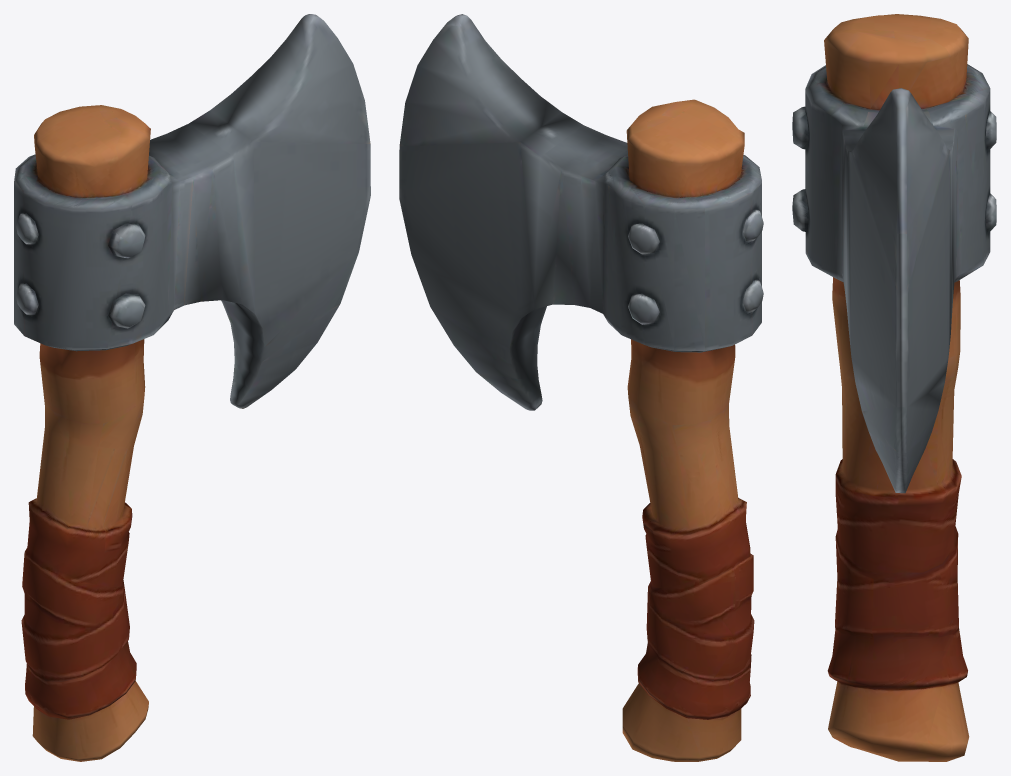
File: iron_field_hammer.glb
The picture shows the model from 3 angles, left to right: view 1: azimuth 30°, elevation 25°; view 2: azimuth 150°, elevation 25°; view 3: azimuth 270°, elevation 25°; orthographic projection. The views are drawn at different scales.
Parts seen in each view (by area): view 1: tripo_node_476993a7-ac0f-4c46-975a-aa339f05ff0f; view 2: tripo_node_476993a7-ac0f-4c46-975a-aa339f05ff0f; view 3: tripo_node_476993a7-ac0f-4c46-975a-aa339f05ff0f.
Boxes of the visible parts, <box> form: tripo_node_476993a7-ac0f-4c46-975a-aa339f05ff0f: <box>14,14,370,761</box>; tripo_node_476993a7-ac0f-4c46-975a-aa339f05ff0f: <box>399,14,763,761</box>; tripo_node_476993a7-ac0f-4c46-975a-aa339f05ff0f: <box>792,14,996,761</box>.
Size of the model in its own units: 0.7913 by 1.45 by 0.3381.
1 material, 1 textured.
